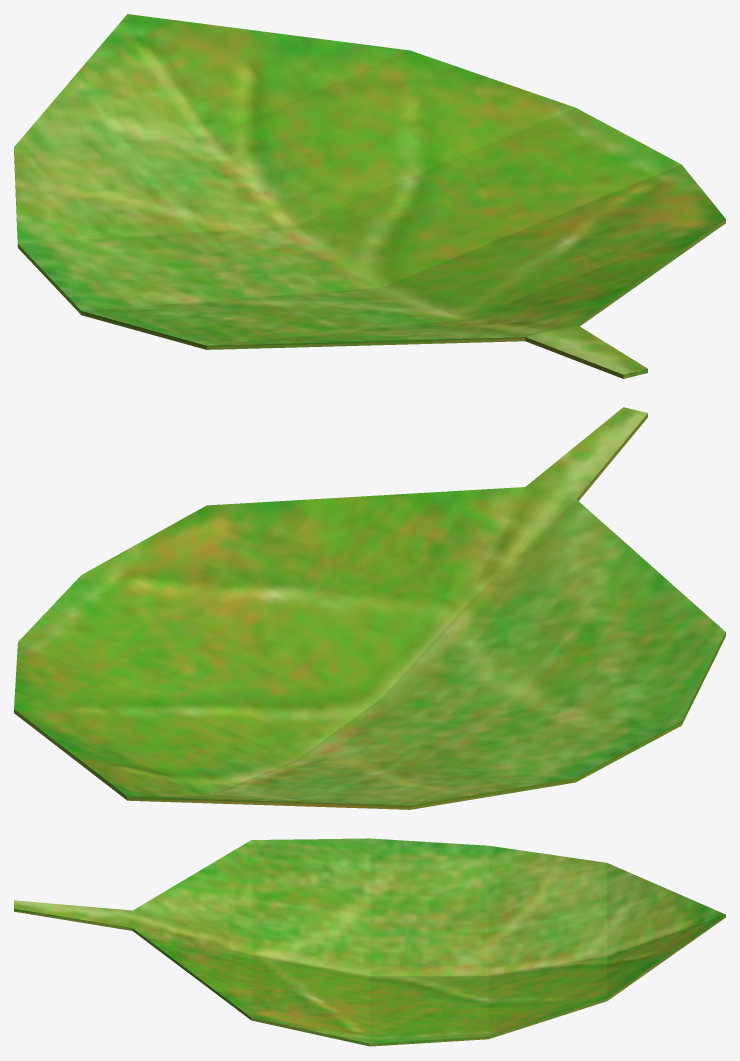
File: trees__leaf.glb
3 views of the same model, one above another, from view 1: azimuth 30°, elevation 25°; view 2: azimuth 150°, elevation 25°; view 3: azimuth 270°, elevation 25° (orthographic). The views are drawn at different scales.
Parts seen in each view (by area): view 1: leaf1; view 2: leaf1; view 3: leaf1.
Part boxes in pixels (left/top/right/bottom): leaf1: left=14, top=14, right=725, bottom=378; leaf1: left=14, top=407, right=725, bottom=809; leaf1: left=14, top=838, right=725, bottom=1046.
Size of the model in its own units: 150 by 25.32 by 220.
1 material, 1 textured.
